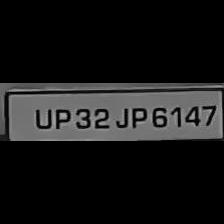1: (168, 103, 184, 129)
2: (90, 104, 112, 130)
3: (72, 104, 92, 130)
4: (181, 102, 201, 128)
6: (149, 103, 171, 129)
7: (200, 101, 216, 127)
J: (112, 104, 130, 130)
P: (50, 106, 72, 130), (128, 104, 148, 130)
U: (29, 105, 52, 129)
